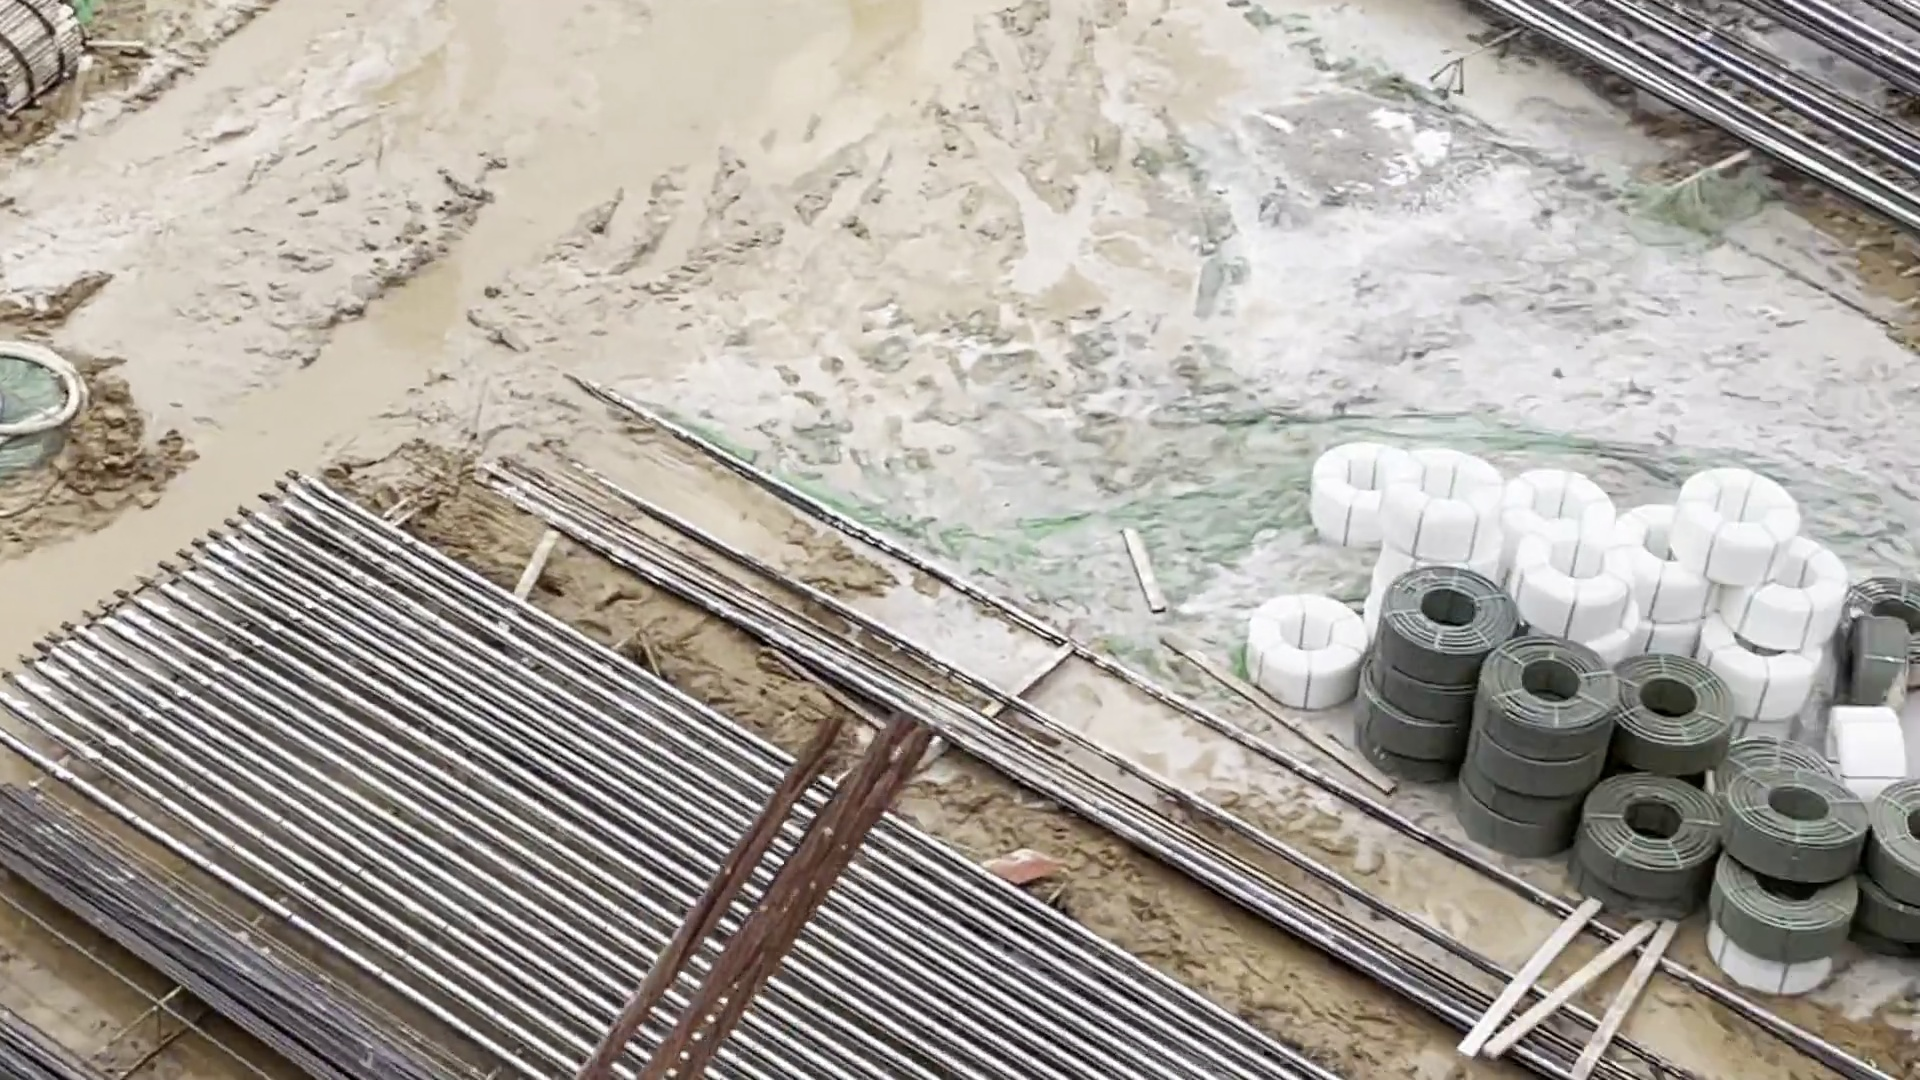rebar: (1, 782, 452, 1080)
wood: (1, 1, 88, 117)
